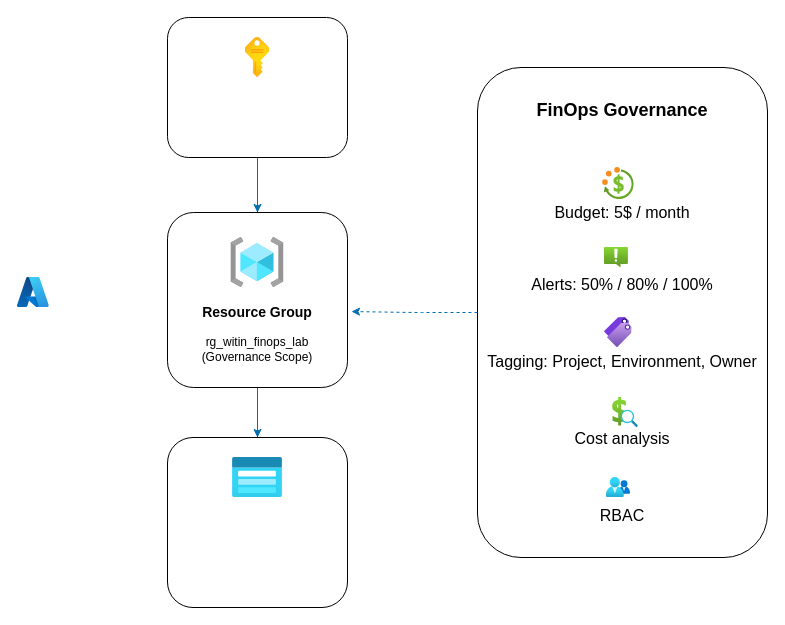
The diagram is 785 pixels wide and 625 high, and some of its shapes have lost their labels. Each missing label, with the box of its shape:
Storage Account Standard LSR Minimal Configuration: (166, 436, 348, 608)
Subscription (Student Credit): (166, 16, 348, 158)
